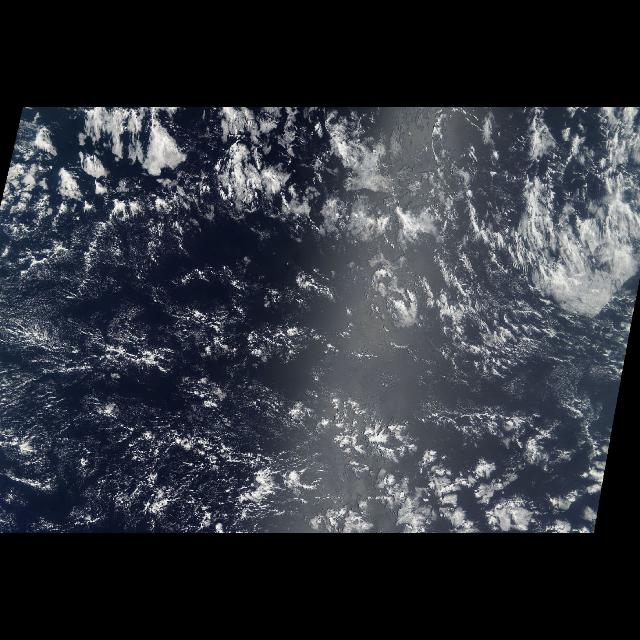Flower: (1, 108, 285, 238), (346, 389, 604, 528)
Gravel: (0, 258, 348, 534)
